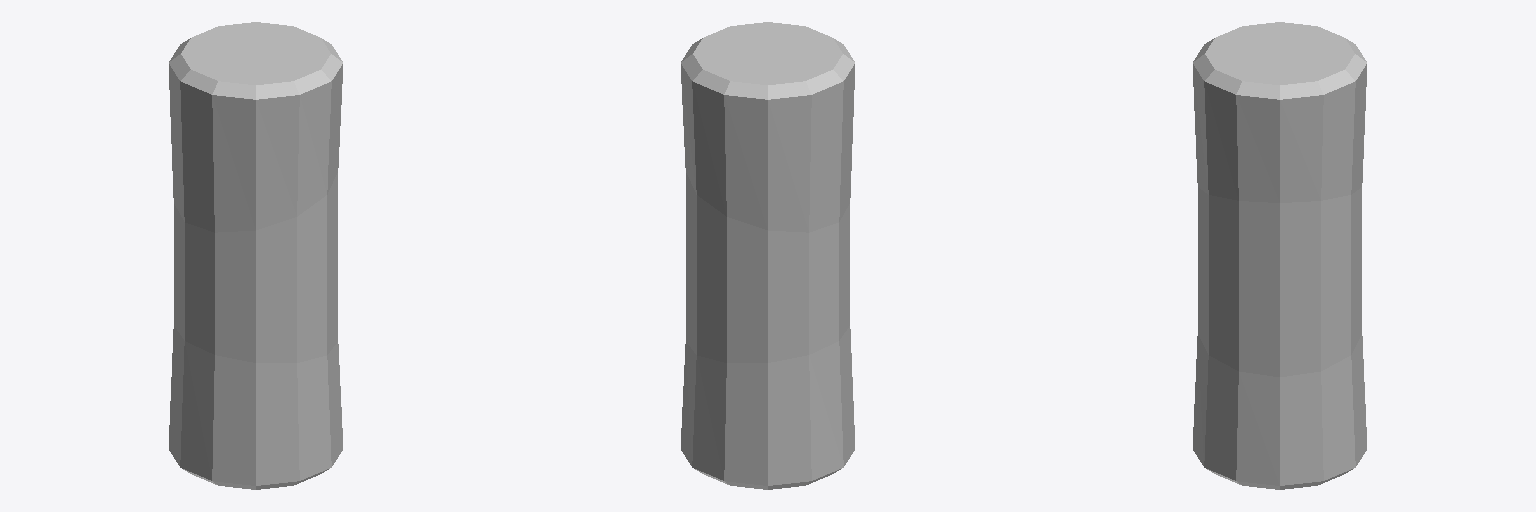
The model's file is log_A.obj.
The picture shows the model from 3 angles: view 1: azimuth 30°, elevation 25°; view 2: azimuth 150°, elevation 25°; view 3: azimuth 270°, elevation 25°; orthographic projection.
Visible parts, largest first — view 1: log_A_Cylinder.061; view 2: log_A_Cylinder.061; view 3: log_A_Cylinder.061.
Boxes of the visible parts, box(x1,y1,x2,y2) form: log_A_Cylinder.061: box(169, 22, 342, 489); log_A_Cylinder.061: box(681, 22, 854, 489); log_A_Cylinder.061: box(1193, 22, 1366, 489).
Size of the model in its own units: 0.4185 by 1.07 by 0.4185.